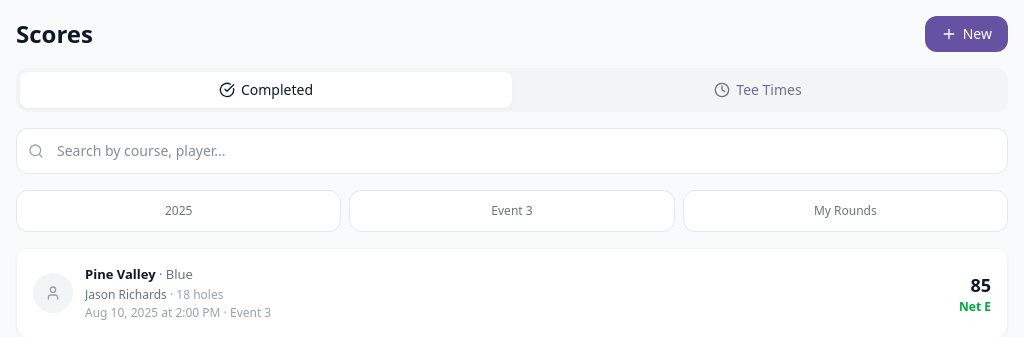
Test: Scores Page - Default to Current Event › retains the current-event default across tab switches
expect the 2nd dropdown shows "Event 3": met, box [349,190,675,232]
Click the button "Tee Times" at (758, 90), box [512,72,1004,108]
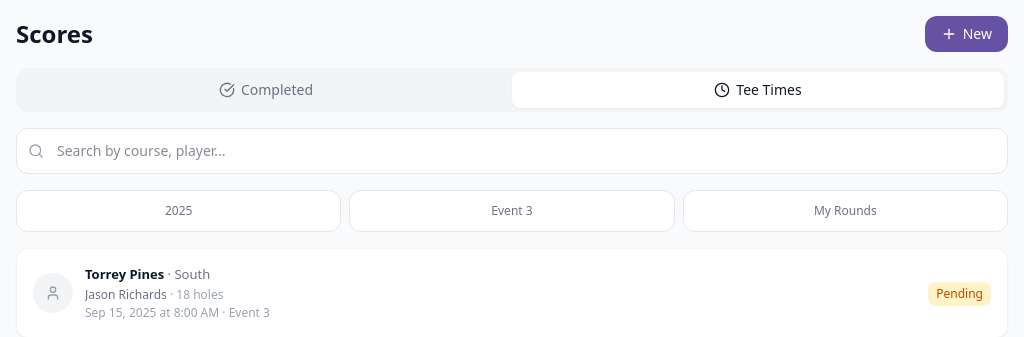
expect the text "Torrey Pines" is shown: met, box [85,265,164,283]
Click the button "Completed" at (266, 90), box [20,72,512,108]
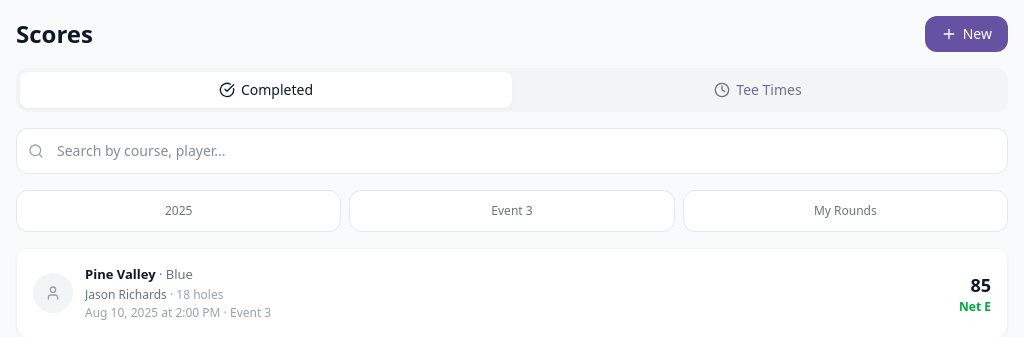
expect the text "Pine Valley" is shown: met, box [85,265,156,283]
